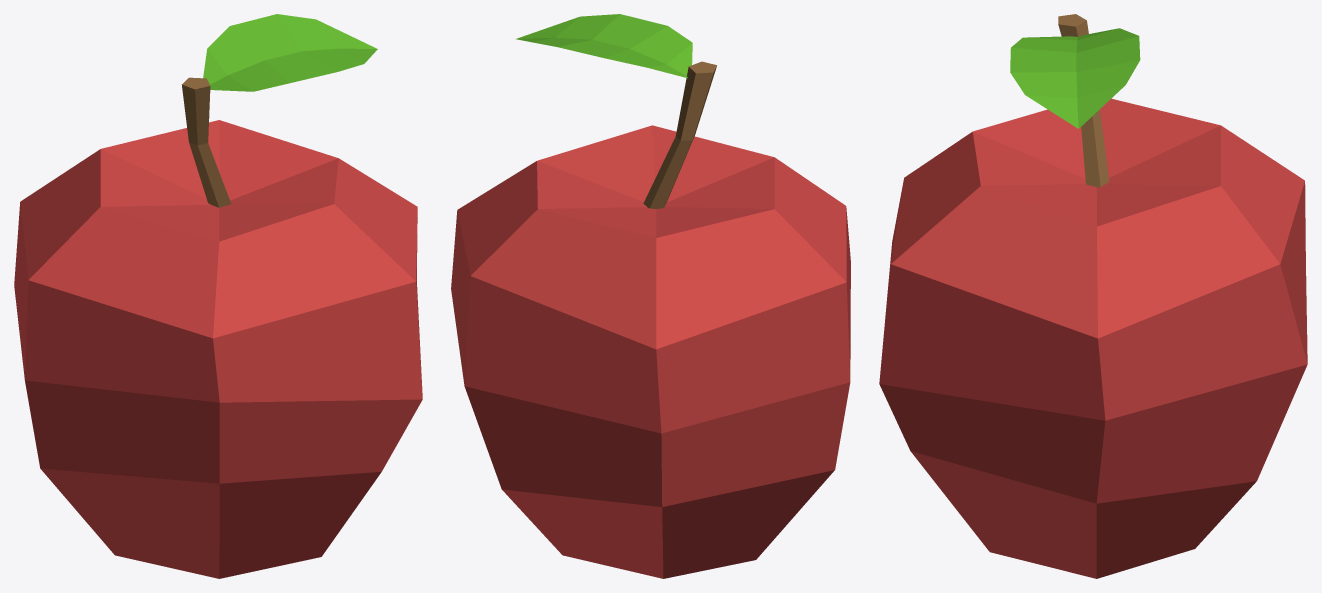
Rendered from Apple2.fbx.
3 views of the same model, side by side, from view 1: azimuth 30°, elevation 25°; view 2: azimuth 150°, elevation 25°; view 3: azimuth 270°, elevation 25° (orthographic). The views are drawn at different scales.
Visible parts, largest first — view 1: Cylinder; view 2: Cylinder; view 3: Cylinder.
Boxes of the visible parts, bbox=[...] form: Cylinder: bbox=[14, 14, 422, 578]; Cylinder: bbox=[451, 14, 850, 578]; Cylinder: bbox=[879, 14, 1307, 578].
Size of the model in its own units: 0.1749 by 0.2041 by 0.1566.
